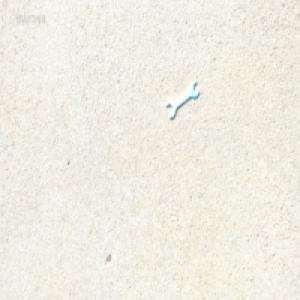Wrench: (165, 81, 197, 119)
